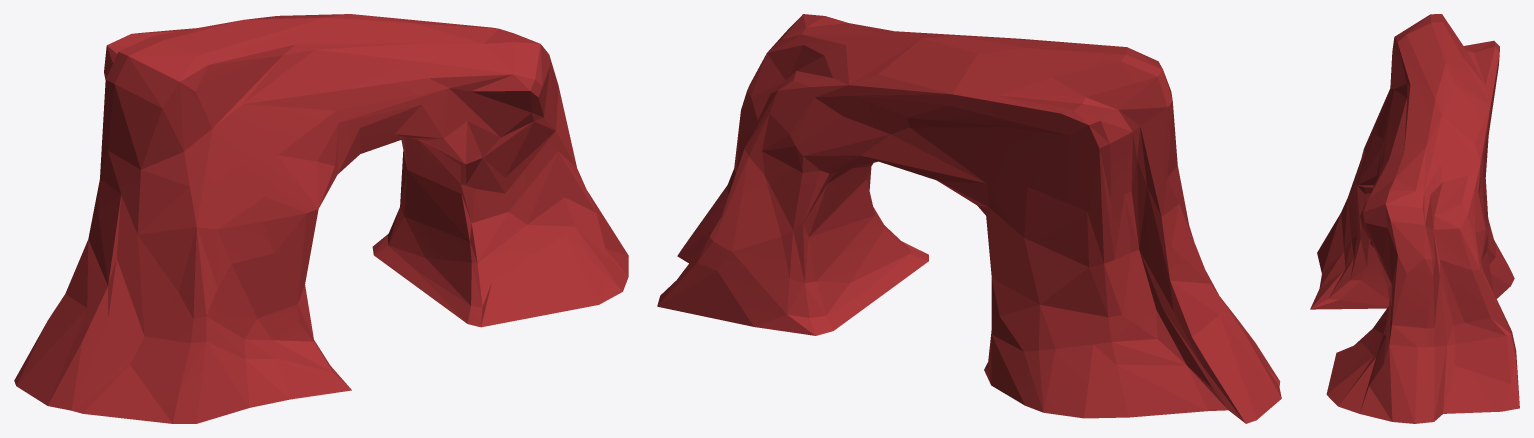
The model's file is M_Archway.fbx.
3 views of the same model, side by side, from view 1: azimuth 30°, elevation 25°; view 2: azimuth 150°, elevation 25°; view 3: azimuth 270°, elevation 25° (orthographic). The views are drawn at different scales.
Visible parts, largest first — view 1: archway; view 2: archway; view 3: archway.
Boxes of the visible parts, x1=… form: archway: x1=14, y1=14, x2=628, y2=423; archway: x1=657, y1=14, x2=1281, y2=423; archway: x1=1310, y1=14, x2=1519, y2=423.
Size of the model in its own units: 79 by 41.33 by 32.02.
